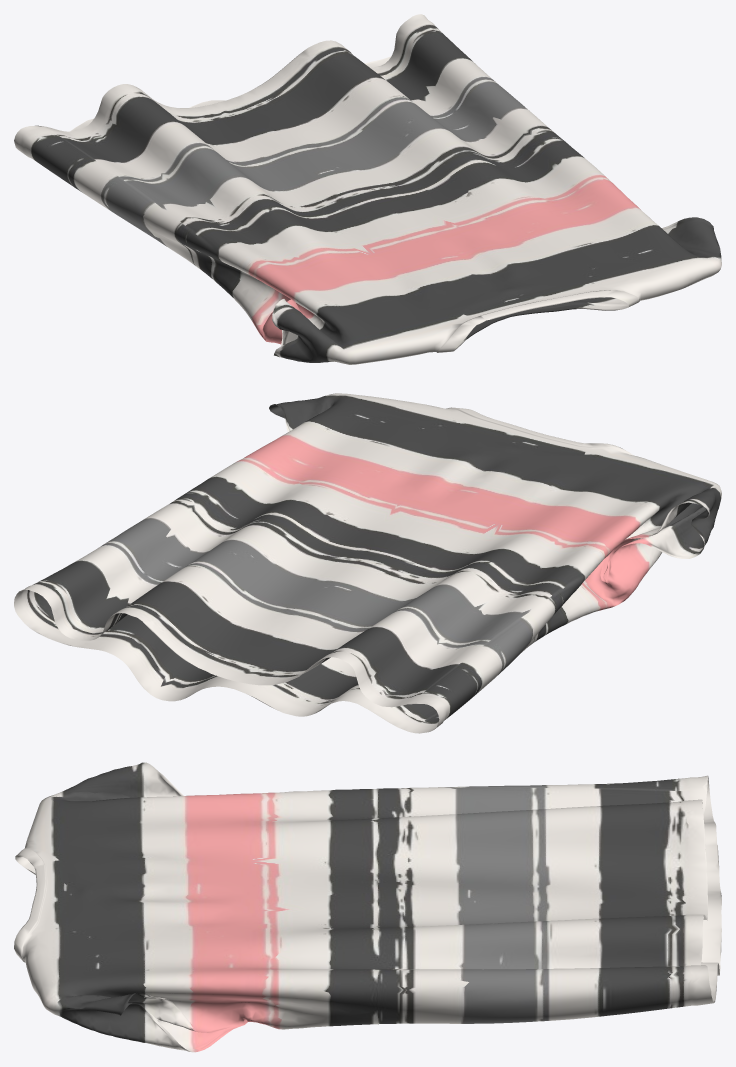
Rendered from TNSC_Tshirt_clo08_0.obj.
The picture shows the model from 3 angles, top to bottom: view 1: azimuth 30°, elevation 25°; view 2: azimuth 150°, elevation 25°; view 3: azimuth 270°, elevation 25°; orthographic projection. The views are drawn at different scales.
Bounding box in the file's own units: 16.15 × 3.03 × 20.69.
Materials: 1 (1 with a texture image).
